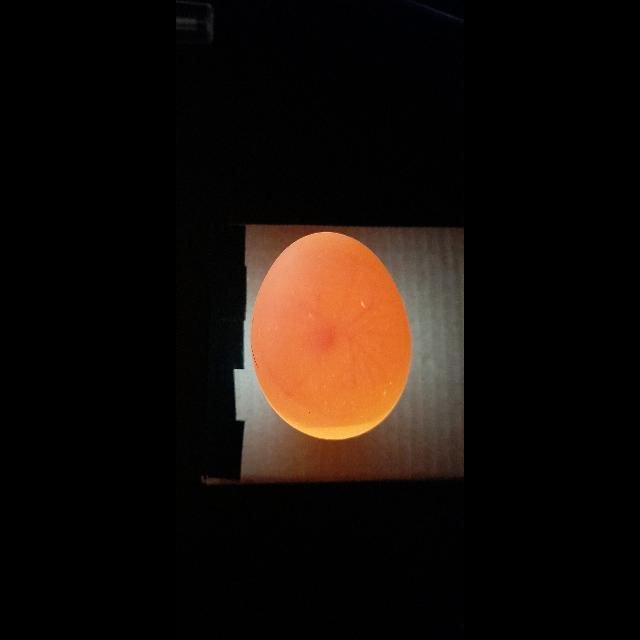Fertile: (250, 234, 410, 434)
